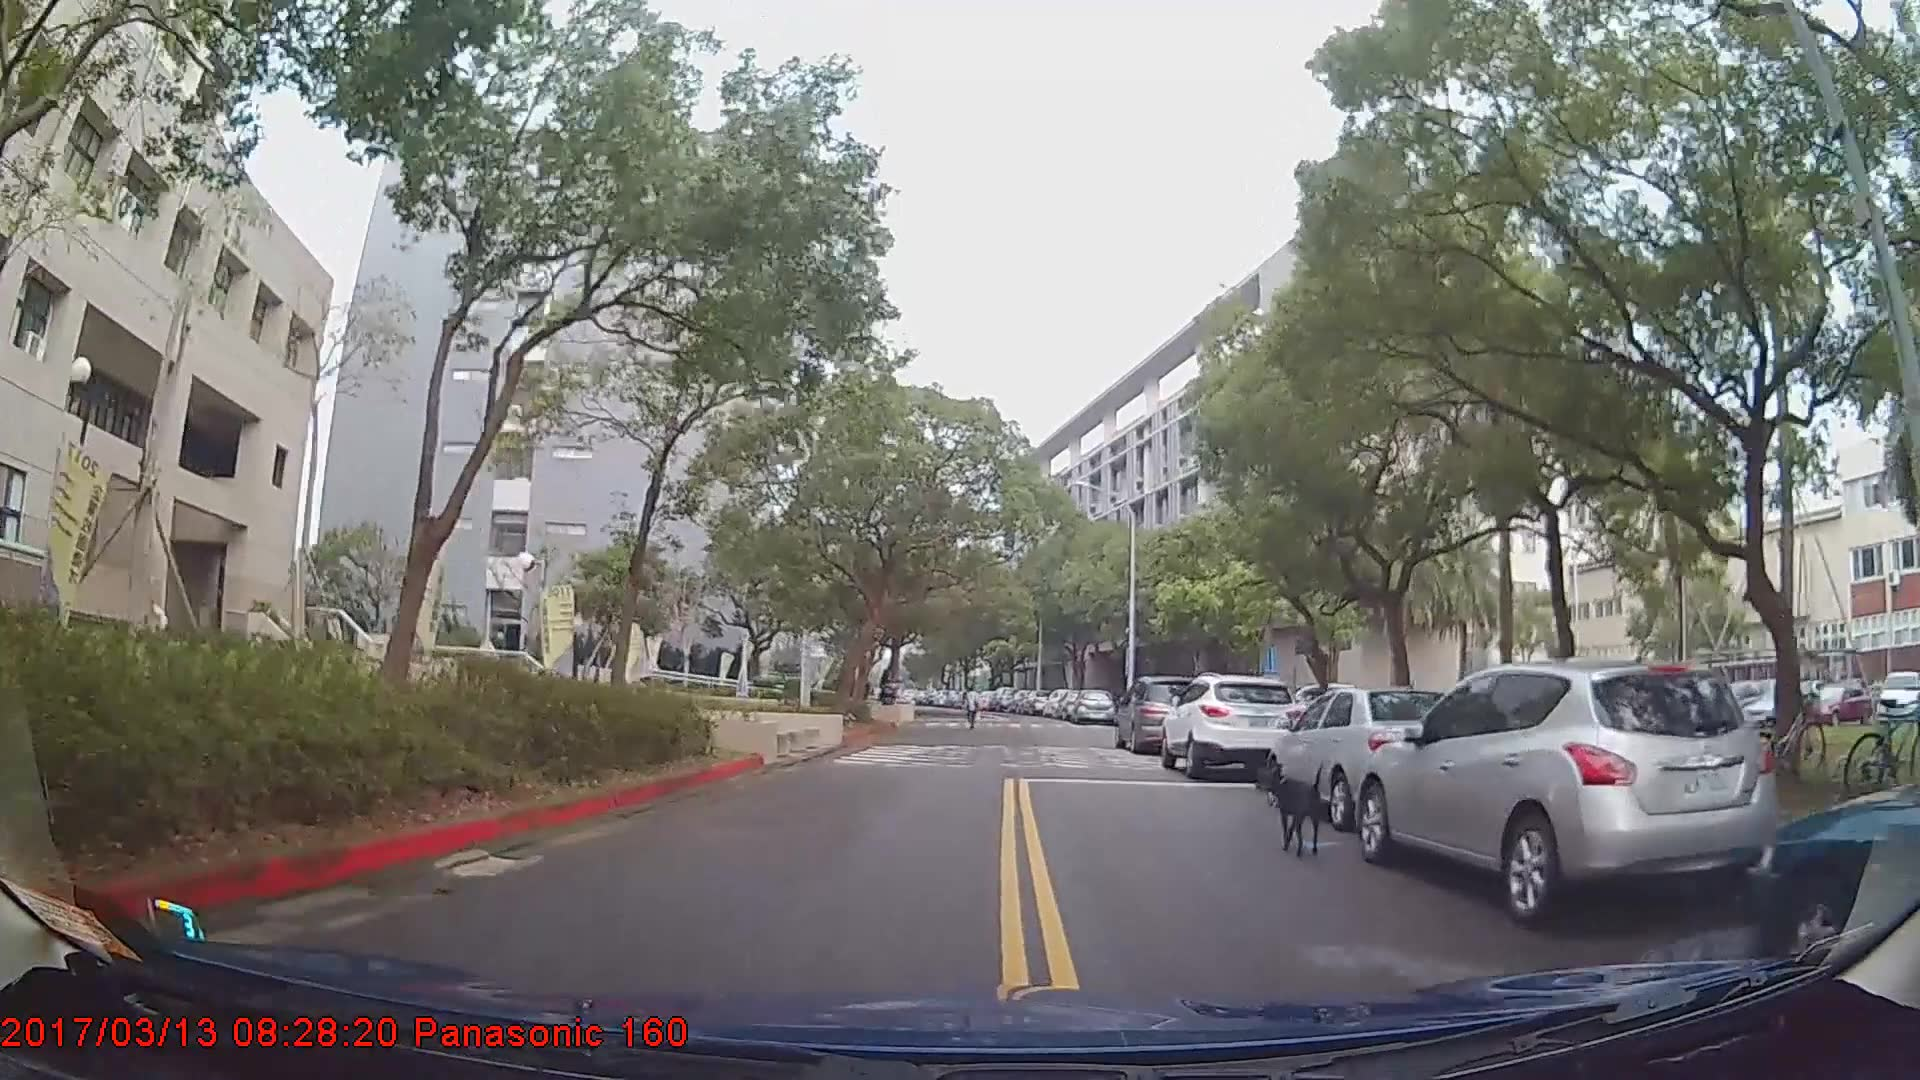pedestrian: (963, 685, 983, 731)
vehicle: (1355, 660, 1780, 929), (1267, 681, 1479, 827), (1161, 668, 1306, 775), (1113, 672, 1219, 749), (1071, 684, 1116, 724), (986, 683, 1015, 712)
